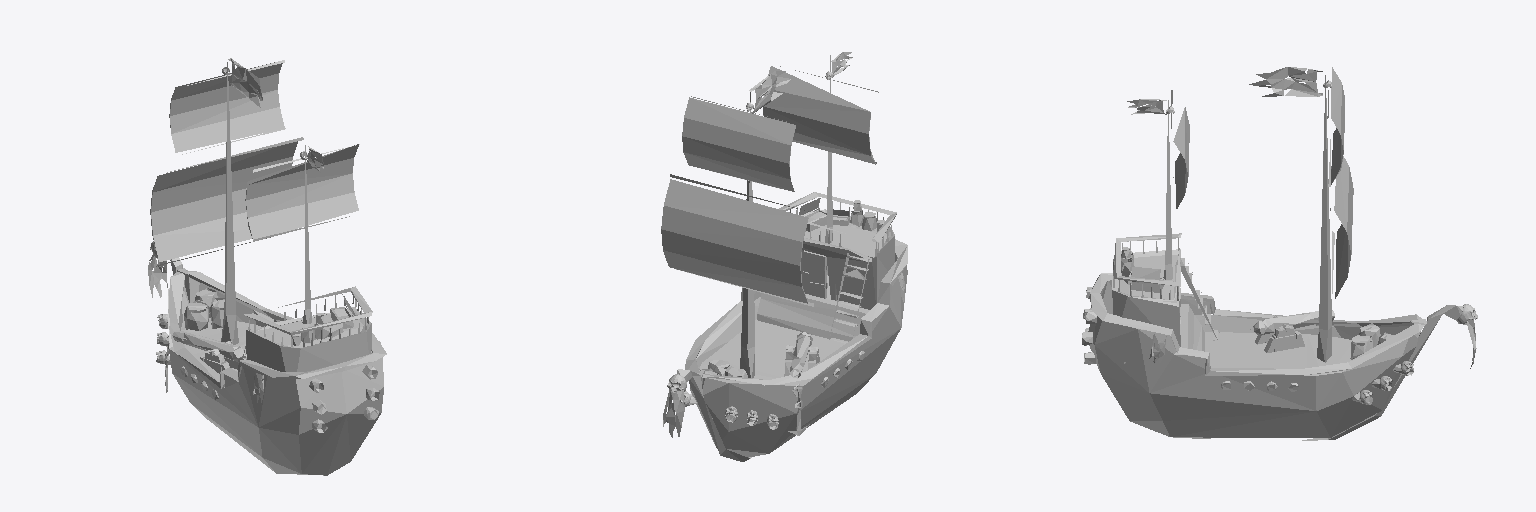
File: stylized_ship(low_poly).obj
3 renders of one model, left to right at view 1: azimuth 30°, elevation 25°; view 2: azimuth 150°, elevation 25°; view 3: azimuth 270°, elevation 25°, orthographic.
Visible parts, largest first — view 1: ship_Cube.010, big_flags_Cube.014, barrels_Cylinder.008, flags_Cube.017, cannon1_Cylinder.015, cannon2_Cylinder.018; view 2: ship_Cube.010, big_flags_Cube.014, flags_Cube.017, barrels_Cylinder.008, door_Cube.009, cannon1_Cylinder.015, wood_stair_Cube.005, Skull_Skull.008, treasure_Cube.004; view 3: ship_Cube.010, big_flags_Cube.014, flags_Cube.017, cannon1_Cylinder.015, cannon2_Cylinder.018, barrels_Cylinder.008, Skull_Skull.008, treasure_Cube.004.
Boxes of the visible parts, x1,y1,x2,y2 form: ship_Cube.010: [156, 60, 386, 475]; big_flags_Cube.014: [150, 62, 358, 261]; barrels_Cylinder.008: [184, 288, 329, 346]; flags_Cube.017: [148, 58, 323, 402]; cannon1_Cylinder.015: [172, 330, 246, 373]; cannon2_Cylinder.018: [156, 322, 379, 432]; ship_Cube.010: [670, 55, 907, 461]; big_flags_Cube.014: [661, 66, 875, 303]; flags_Cube.017: [663, 52, 904, 437]; barrels_Cylinder.008: [700, 200, 885, 377]; door_Cube.009: [803, 250, 827, 298]; cannon1_Cylinder.015: [784, 332, 819, 378]; wood_stair_Cube.005: [829, 253, 870, 343]; Skull_Skull.008: [667, 71, 833, 426]; treasure_Cube.004: [799, 198, 849, 231]; ship_Cube.010: [1088, 75, 1466, 440]; big_flags_Cube.014: [1173, 67, 1353, 298]; flags_Cube.017: [1127, 67, 1476, 368]; cannon1_Cylinder.015: [1250, 310, 1334, 352]; cannon2_Cylinder.018: [1082, 287, 1413, 404]; barrels_Cylinder.008: [1121, 247, 1394, 359]; Skull_Skull.008: [1166, 80, 1477, 404]; treasure_Cube.004: [1122, 266, 1163, 292].
Size of the model in its own units: 5.39 by 13.02 by 12.54.